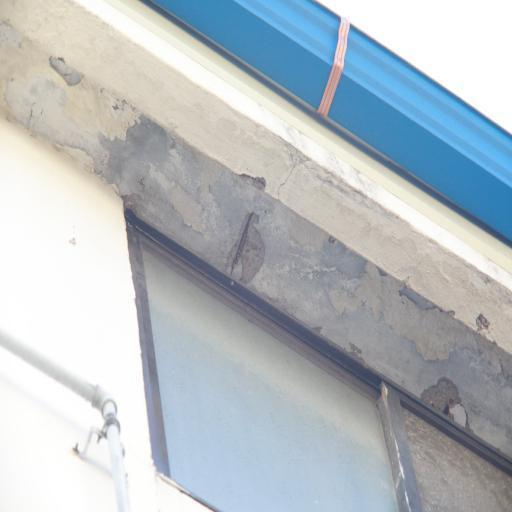exposed_rebar: (231, 213, 254, 272), (476, 313, 490, 331)
spalling: (104, 119, 512, 426), (50, 56, 82, 86)
